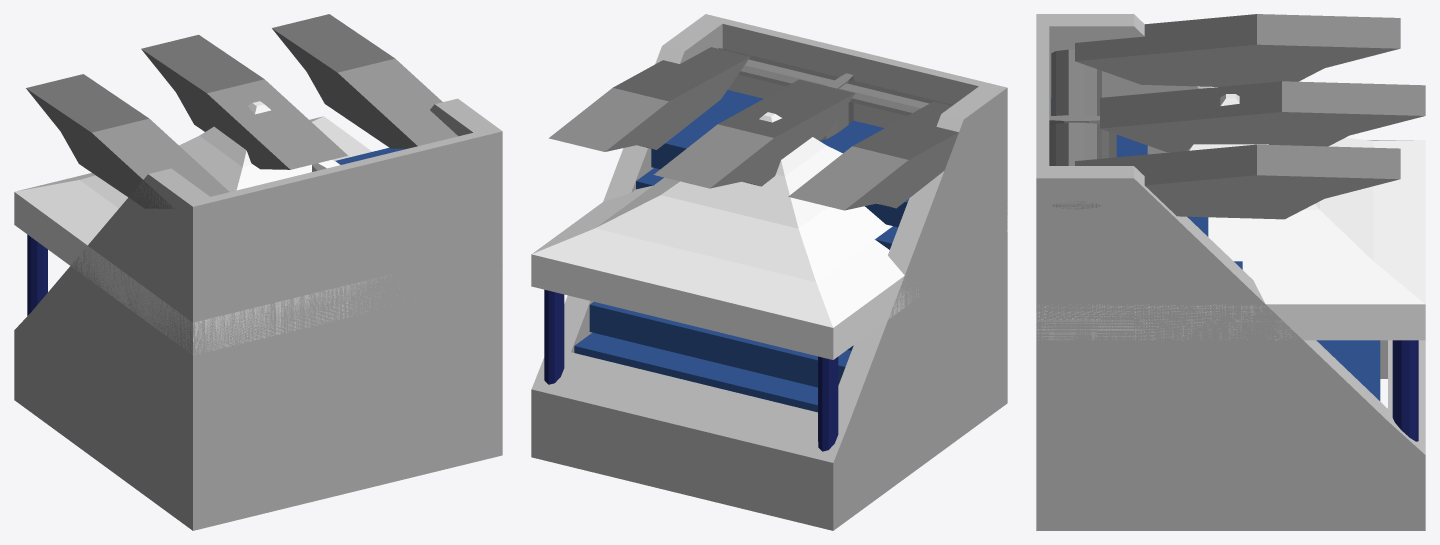
The model's file is track-kit.glb.
3 renders of one model, left to right at view 1: azimuth 30°, elevation 25°; view 2: azimuth 150°, elevation 25°; view 3: azimuth 270°, elevation 25°, orthographic. The views are drawn at different scales.
Parts seen in each view (by area): view 1: grandstand, lamp, tent; view 2: grandstand, tent, lamp; view 3: grandstand, lamp, tent.
Part boxes in pixels (x1,y1,x2,y2): grandstand: (14,98,502,530); lamp: (26,14,457,208); tent: (14,101,415,354); grandstand: (531,14,1007,530); tent: (531,112,1007,451); lamp: (549,47,958,210); grandstand: (1036,14,1425,530); lamp: (1049,14,1425,219); tent: (1036,94,1425,441).
Size of the model in its own units: 1 by 1 by 1.
